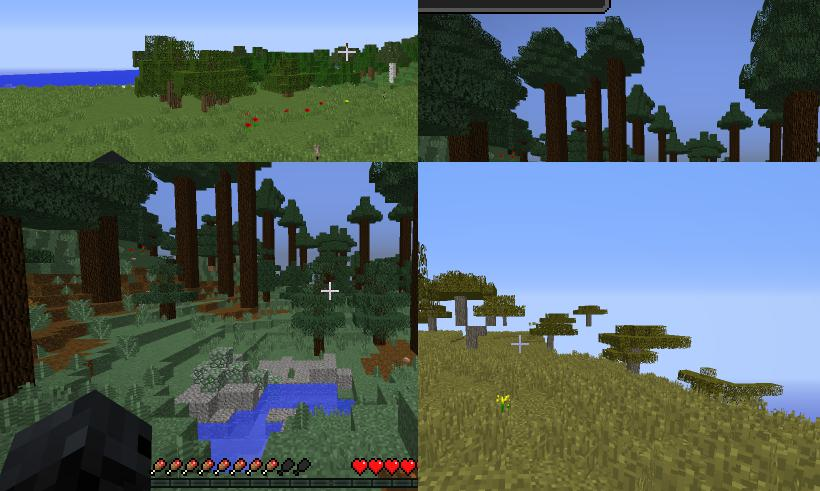minecraft-blocks: (1, 206, 36, 394), (79, 228, 125, 302), (174, 182, 201, 293), (244, 165, 261, 312), (784, 95, 818, 162), (544, 88, 571, 162), (454, 297, 487, 351), (613, 71, 631, 162), (449, 133, 496, 162), (360, 222, 372, 269), (730, 127, 743, 162), (170, 82, 183, 110), (203, 93, 217, 114), (429, 318, 438, 334), (390, 64, 397, 84), (219, 98, 231, 108), (548, 336, 555, 350), (370, 68, 376, 82), (587, 315, 593, 328), (160, 95, 169, 103), (361, 72, 367, 81)
